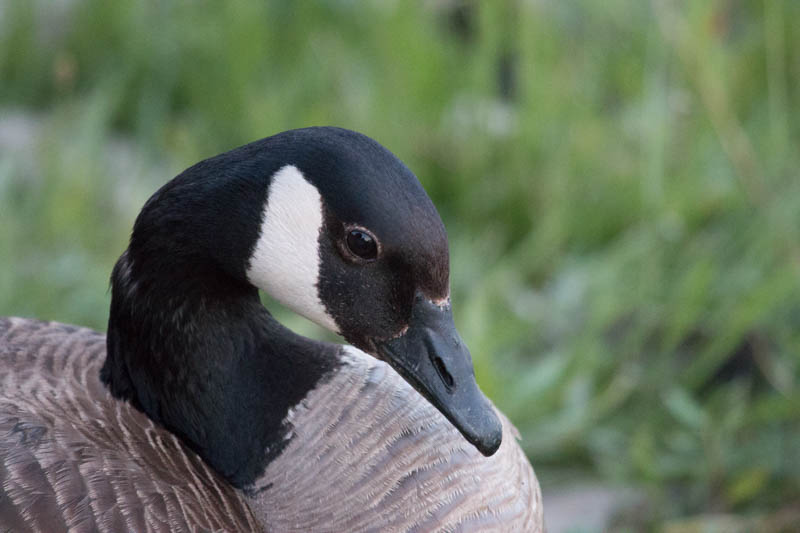goose-head: (200, 126, 503, 457)
